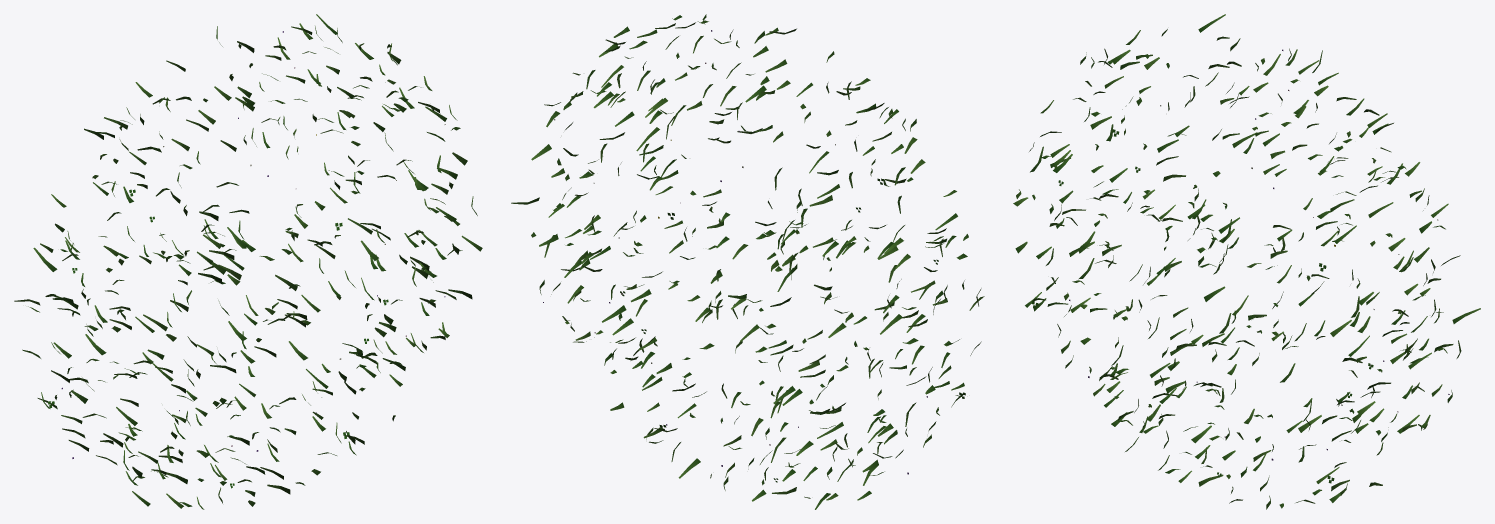
Rendered from Grass_Tile_Ramble.glb.
3 views of the same model, side by side, from view 1: azimuth 30°, elevation 25°; view 2: azimuth 150°, elevation 25°; view 3: azimuth 330°, elevation 25° (orthographic).
Visible parts, largest first — view 1: Grass_Tile_Ramble; view 2: Grass_Tile_Ramble; view 3: Grass_Tile_Ramble.
Boxes of the visible parts, box(x1,y1,x2,y2) form: Grass_Tile_Ramble: box(14, 14, 482, 509); Grass_Tile_Ramble: box(511, 14, 984, 509); Grass_Tile_Ramble: box(1013, 14, 1480, 509).
Size of the model in its own units: 1.63 by 1.61 by 0.1277.
